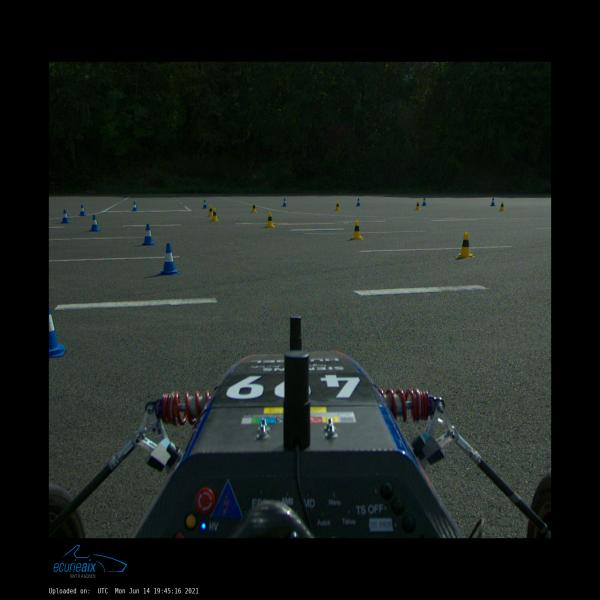blue_cone: (49, 307, 66, 357), (157, 243, 181, 275), (141, 224, 156, 245), (90, 214, 100, 231), (60, 210, 70, 224), (79, 204, 86, 216), (202, 199, 208, 209), (132, 202, 138, 211), (490, 198, 496, 206), (282, 198, 287, 207), (356, 198, 361, 206), (422, 197, 426, 206)
yellow_cone: (456, 231, 475, 258), (351, 220, 363, 240), (265, 212, 275, 228), (211, 208, 219, 221), (251, 202, 258, 213), (207, 204, 213, 216), (415, 200, 421, 210), (335, 201, 341, 211), (499, 201, 505, 211)
